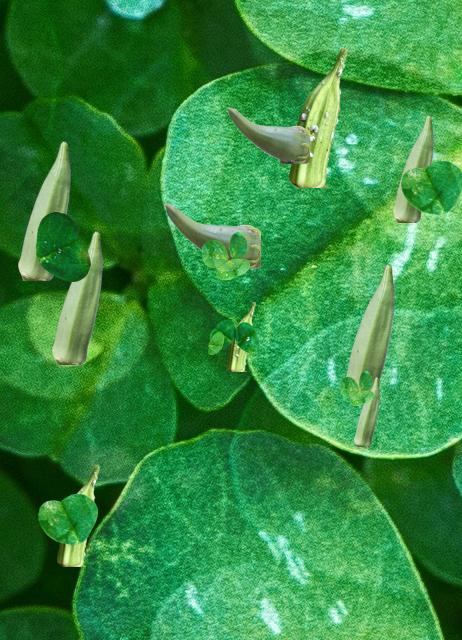okra: (289, 48, 346, 186), (18, 141, 69, 279), (52, 231, 101, 363), (345, 264, 393, 391), (164, 203, 259, 267), (227, 107, 308, 162), (393, 115, 432, 221), (57, 465, 98, 565), (227, 302, 254, 370), (354, 377, 378, 445)
